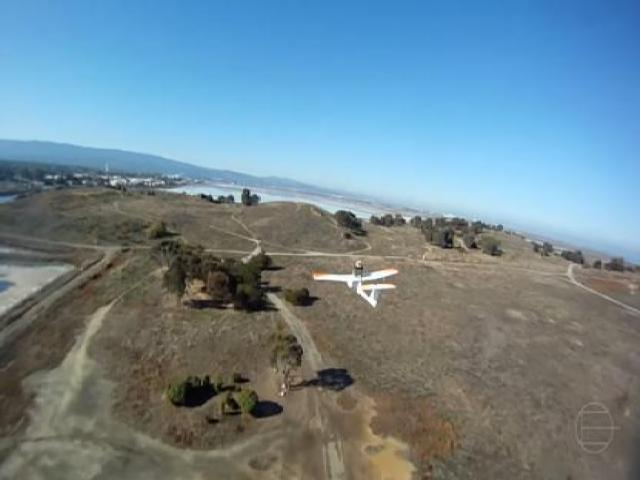uav: (304, 250, 402, 316)
